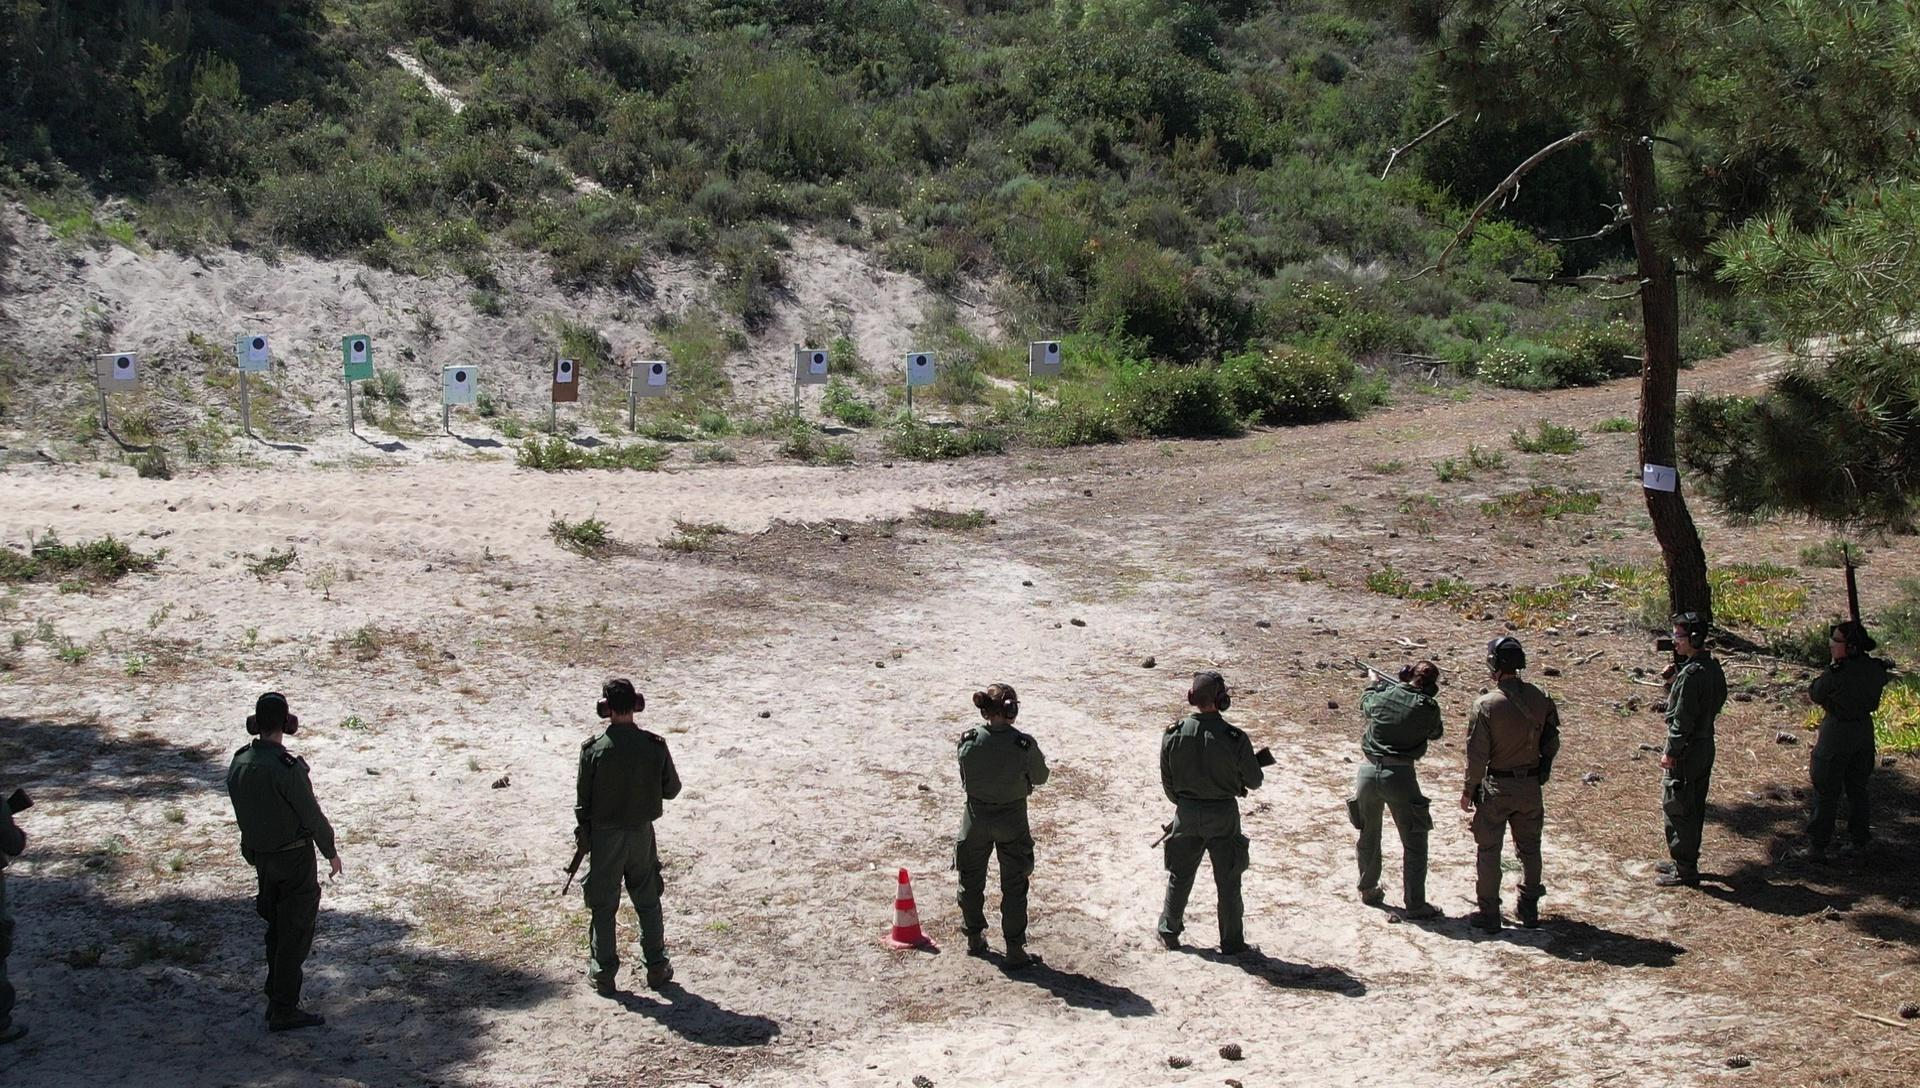Soldier: (527, 662, 694, 1012), (206, 692, 365, 1037), (1333, 619, 1478, 953), (931, 669, 1067, 989), (1145, 651, 1275, 971), (1449, 621, 1580, 938), (1633, 559, 1756, 870), (1788, 615, 1902, 893)
